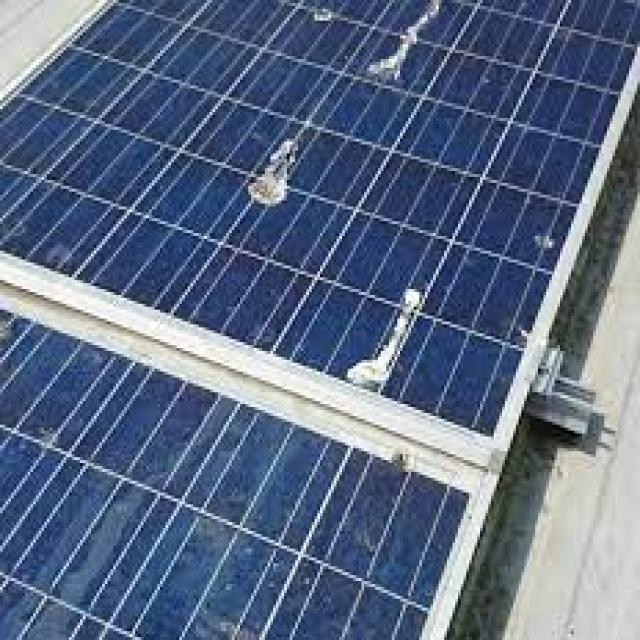faulty: (5, 311, 478, 640)
